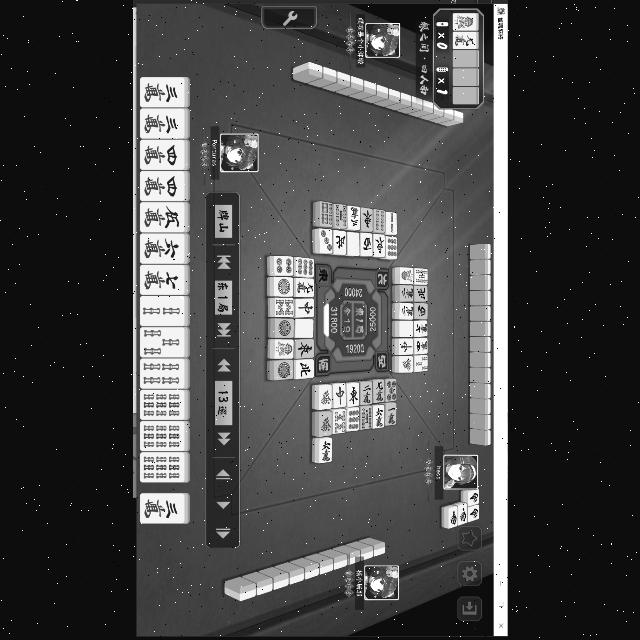1m: (384, 404, 396, 426)
1p: (274, 318, 294, 338), (274, 360, 294, 380), (275, 278, 293, 296)
1s: (452, 13, 478, 32), (274, 339, 294, 359), (400, 266, 412, 284)
2m: (398, 284, 414, 302), (361, 381, 372, 405), (399, 302, 413, 320)
2s: (140, 296, 188, 326), (386, 212, 396, 234)
3m: (140, 76, 190, 108), (139, 108, 189, 140), (140, 493, 190, 523), (348, 206, 360, 230)
3p: (320, 228, 332, 254)
3s: (139, 328, 189, 357), (413, 355, 429, 373)
4m: (140, 140, 190, 170), (139, 171, 189, 201), (415, 339, 429, 355)
4p: (275, 256, 293, 276)
4s: (140, 359, 190, 389), (374, 210, 384, 232)
5m: (140, 202, 190, 232)
5p: (386, 378, 396, 402)
5s: (333, 203, 347, 229), (360, 405, 372, 431), (414, 267, 428, 285)
6m: (140, 233, 188, 264), (318, 439, 332, 465), (374, 405, 384, 429)
6s: (320, 202, 332, 226)
7m: (140, 265, 190, 295), (414, 320, 428, 338)
8s: (274, 298, 294, 316), (334, 408, 346, 434)
9m: (453, 31, 479, 49), (296, 278, 314, 298), (374, 378, 384, 406)
9p: (296, 257, 314, 277), (348, 408, 360, 432), (387, 236, 398, 258)
9s: (138, 390, 190, 420), (140, 421, 190, 451), (140, 452, 190, 482)
chun: (332, 382, 346, 410), (295, 298, 313, 318), (399, 337, 413, 355)
haku: (294, 318, 314, 338), (346, 232, 358, 256), (399, 321, 413, 337)
hatsu: (317, 410, 331, 438), (318, 384, 332, 410), (399, 357, 413, 373)
nan: (448, 506, 458, 528), (458, 505, 468, 527), (468, 505, 480, 523), (469, 490, 479, 504)
pe: (333, 230, 347, 256), (295, 359, 313, 379), (414, 286, 430, 302)
sha: (361, 232, 372, 255), (414, 303, 428, 321)
tou: (294, 339, 314, 358), (361, 208, 374, 232), (346, 382, 358, 408), (373, 235, 385, 258)
